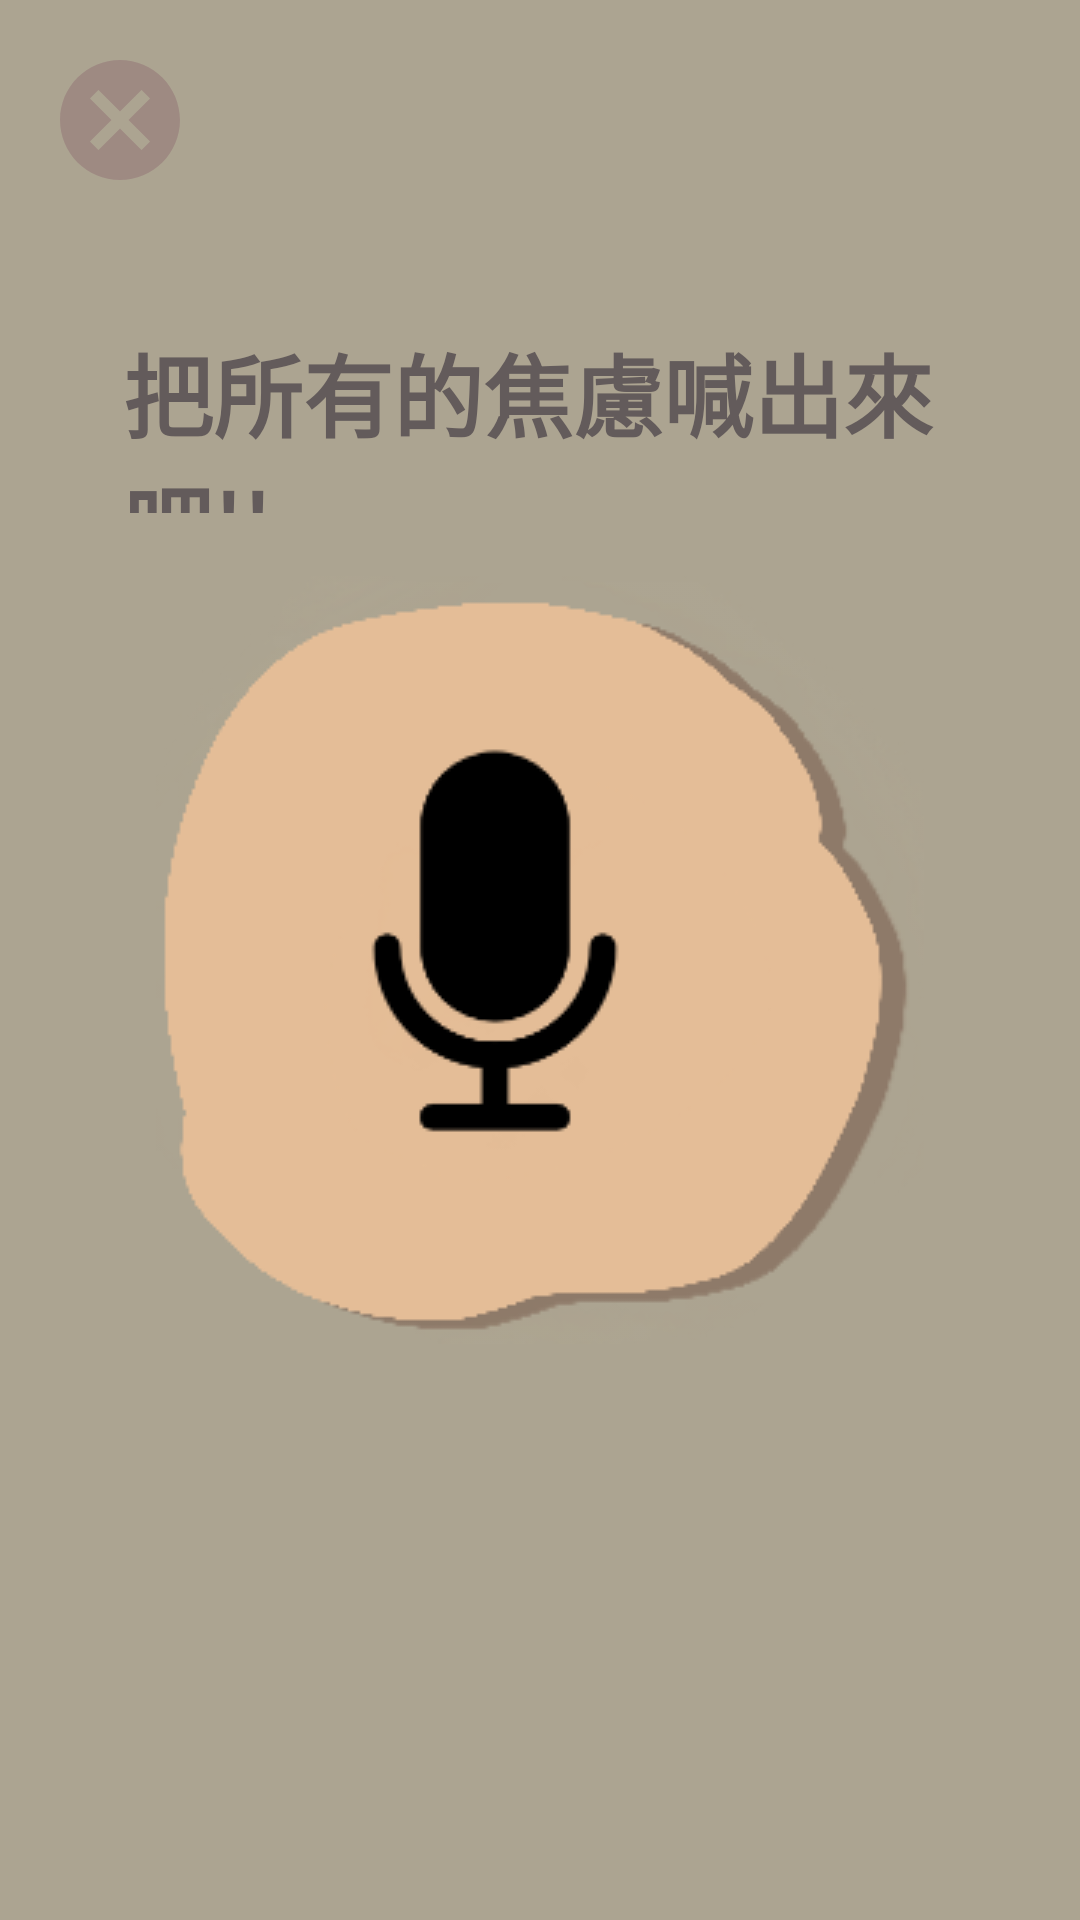

Icons on this 1080 x 1920 Android screen, each with its box as {"left": x1, "top": y1, "right": x2, "bottom": y2}:
close this page: {"left": 60, "top": 60, "right": 180, "bottom": 180}
